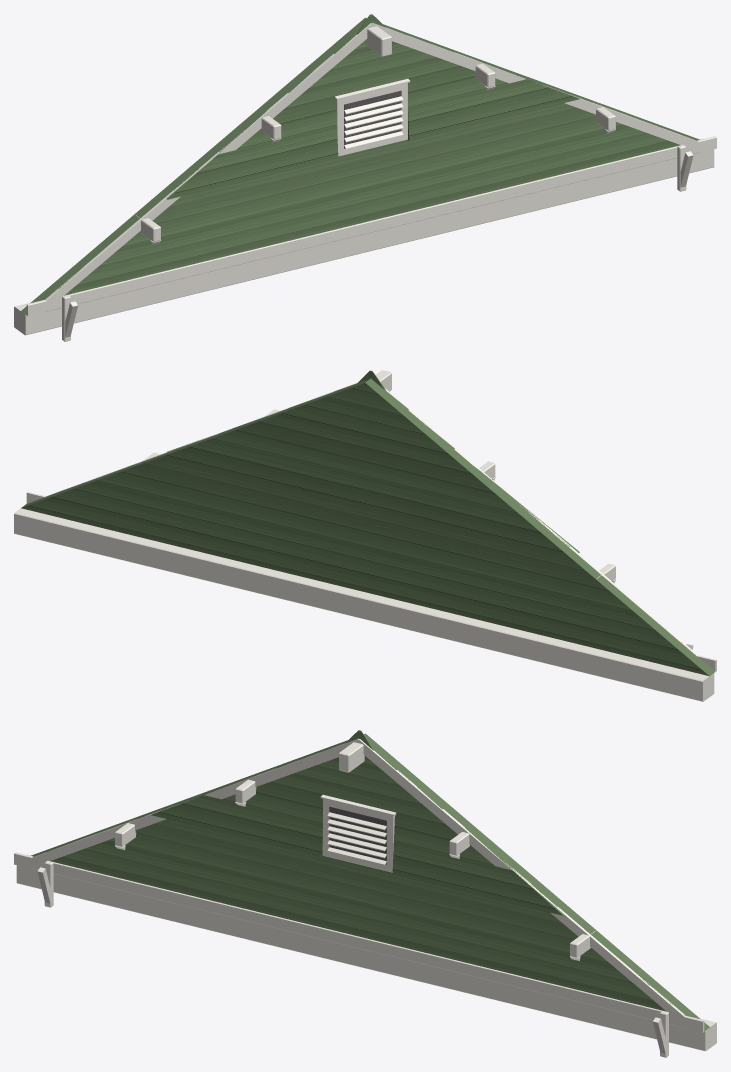
The model's file is porch_gable.glb.
3 renders of one model, top to bottom at view 1: azimuth 30°, elevation 25°; view 2: azimuth 150°, elevation 25°; view 3: azimuth 330°, elevation 25°, orthographic.
Parts seen in each view (by area): view 1: porch_gable_siding, porch_gable_trim, porch_gable_dark; view 2: porch_gable_siding, porch_gable_trim; view 3: porch_gable_siding, porch_gable_trim, porch_gable_dark.
Boxes of the visible parts, bbox=[...] form: porch_gable_siding: bbox=[21, 14, 699, 315]; porch_gable_trim: bbox=[14, 22, 716, 341]; porch_gable_dark: bbox=[344, 90, 401, 148]; porch_gable_siding: bbox=[21, 370, 714, 676]; porch_gable_trim: bbox=[14, 370, 716, 701]; porch_gable_siding: bbox=[31, 730, 709, 1031]; porch_gable_trim: bbox=[14, 738, 716, 1057]; porch_gable_dark: bbox=[329, 806, 386, 864].
Size of the model in its own units: 10.3 by 3.55 by 0.745.
Materials: 3 (1 with a texture image).
